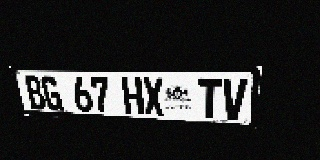6: (70, 77, 94, 112)
7: (89, 77, 112, 113)
B: (23, 76, 47, 110)
G: (40, 76, 64, 111)
H: (121, 77, 144, 115)
T: (199, 78, 222, 119)
V: (221, 79, 248, 120)
X: (142, 78, 165, 116)
